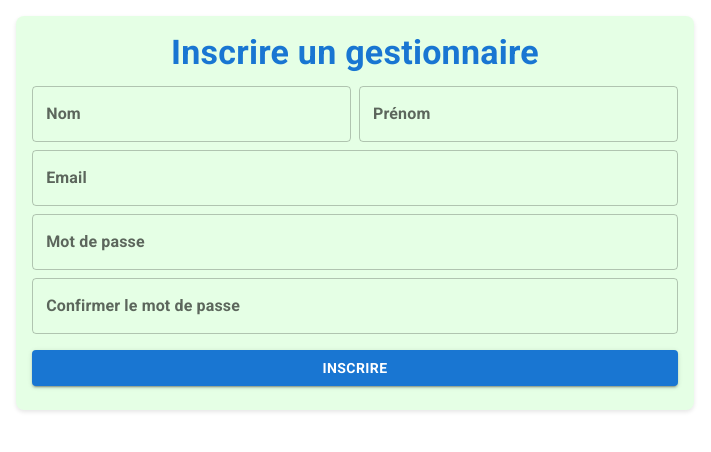
it: ManagerRegisterPage › handles API error during registration
Type "Doe" into the field labelled "Nom".
click(192, 114); type("Doe")  # box x1=32 y1=86 x2=351 y2=142
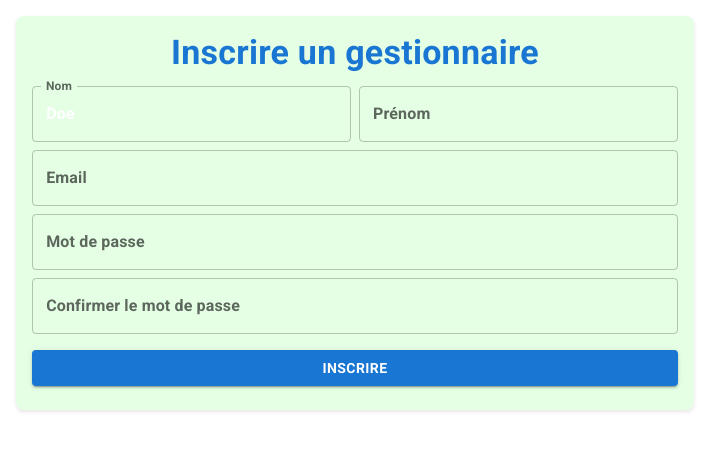
Type "John" into the field labelled "Prénom".
click(518, 114); type("John")  # box x1=359 y1=86 x2=678 y2=142
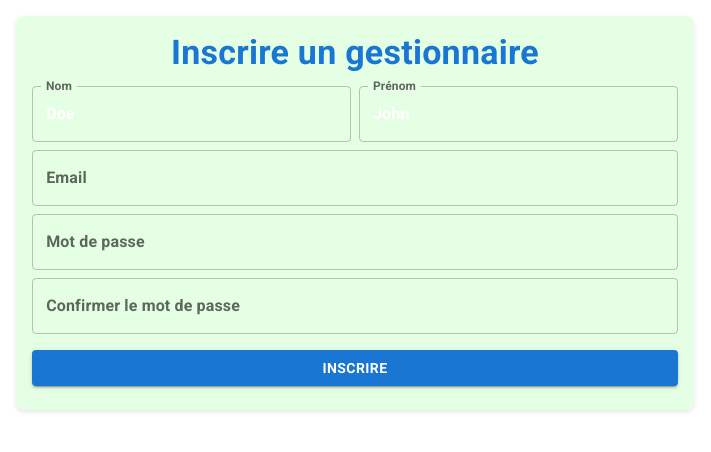
Type "manager@example.com" into the field labelled "Email".
click(355, 178); type("manager@example.com")  # box x1=32 y1=150 x2=678 y2=206
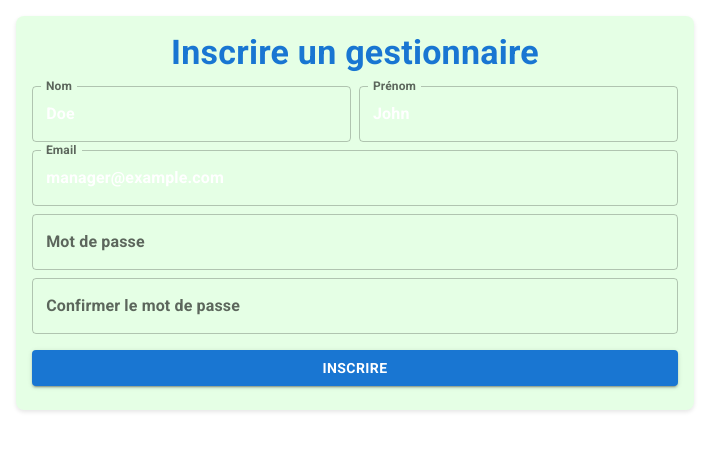
Type "Password123!" into the password field labelled "Mot de passe".
click(355, 242); type("Password123!")  # box x1=32 y1=214 x2=678 y2=270
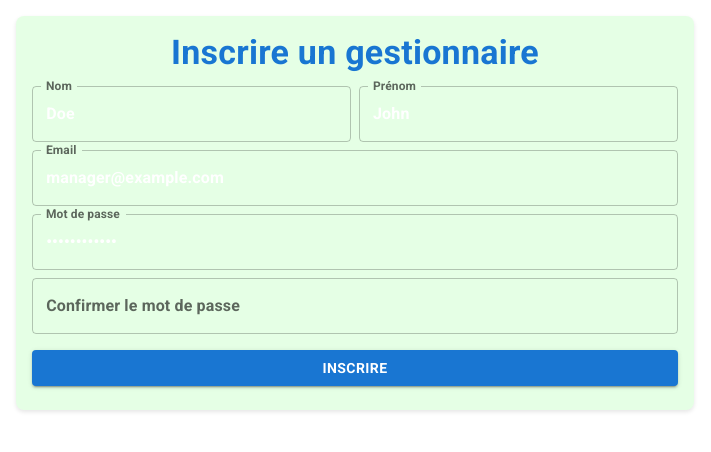
Type "Password123!" into the password field labelled "Confirmer le mot de passe".
click(355, 306); type("Password123!")  # box x1=32 y1=278 x2=678 y2=334
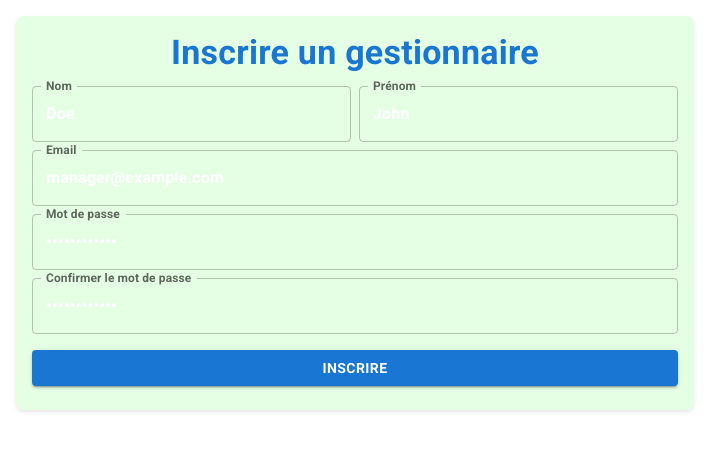
# Submit form
Click the button with test id "submit-button".
click(355, 368)  # box x1=32 y1=350 x2=678 y2=386
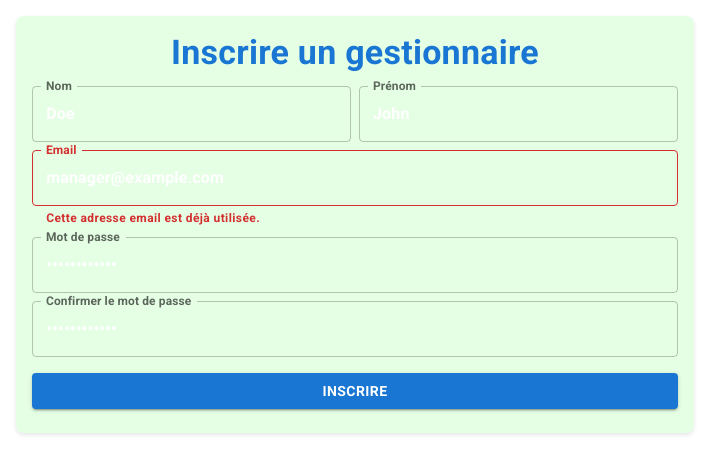
Now the text "Cette adresse email est déjà utilisée." is shown, box x1=46 y1=211 x2=260 y2=225
